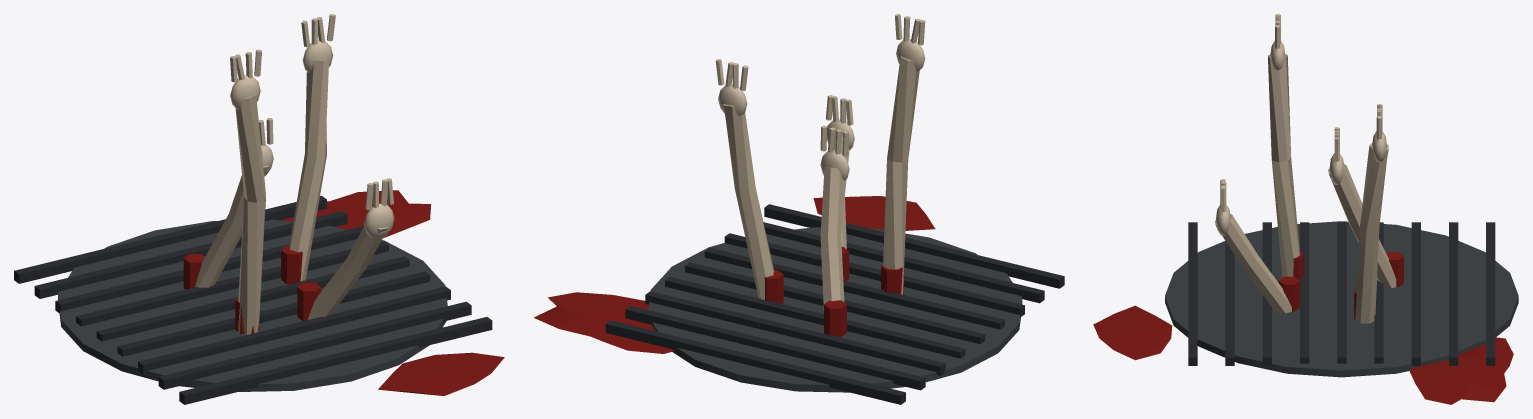
File: hand_grate.glb
3 views of the same model, side by side, from view 1: azimuth 30°, elevation 25°; view 2: azimuth 150°, elevation 25°; view 3: azimuth 270°, elevation 25° (orthographic). The views are drawn at different scales.
Visible parts, largest first — view 1: hand_grate; view 2: hand_grate; view 3: hand_grate.
Part boxes in pixels (x1,y1,x2,y2): hand_grate: (14,14,504,404); hand_grate: (534,14,1064,404); hand_grate: (1093,14,1518,404).
Bounding box in the file's own units: 2.28 × 1.59 × 2.29.
